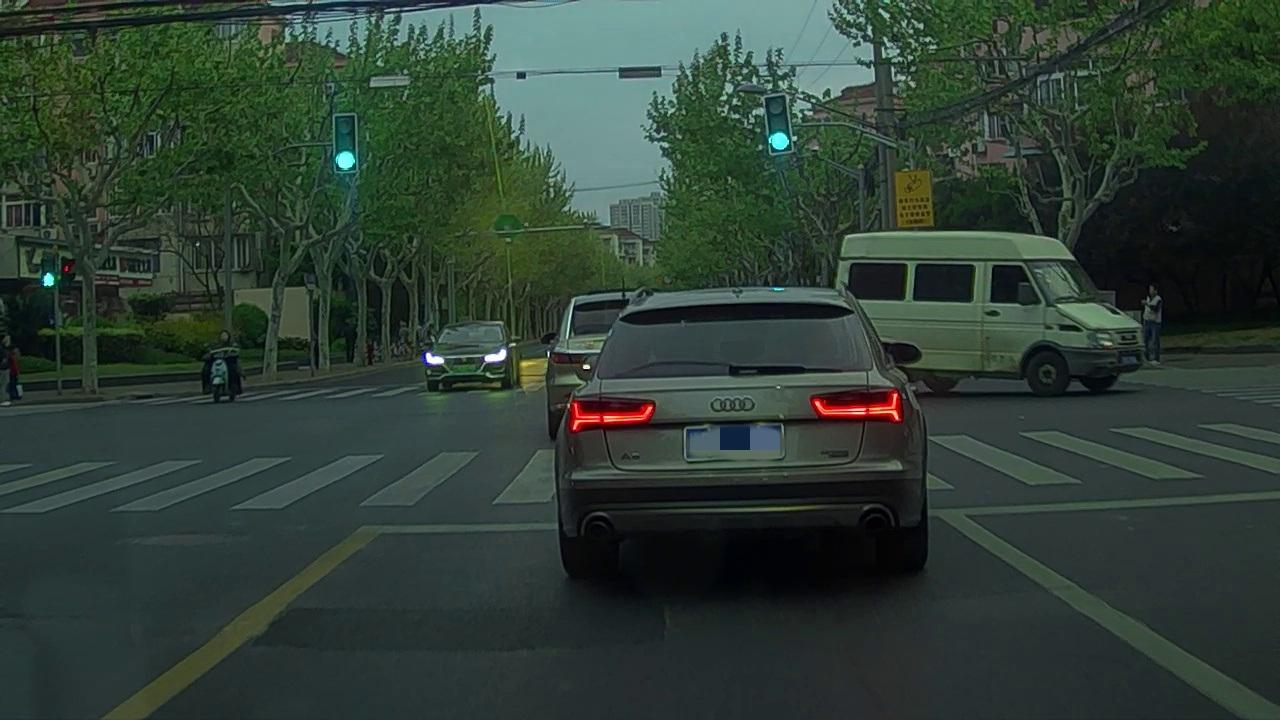traffic_light: (333, 114, 357, 174), (767, 96, 791, 154)
